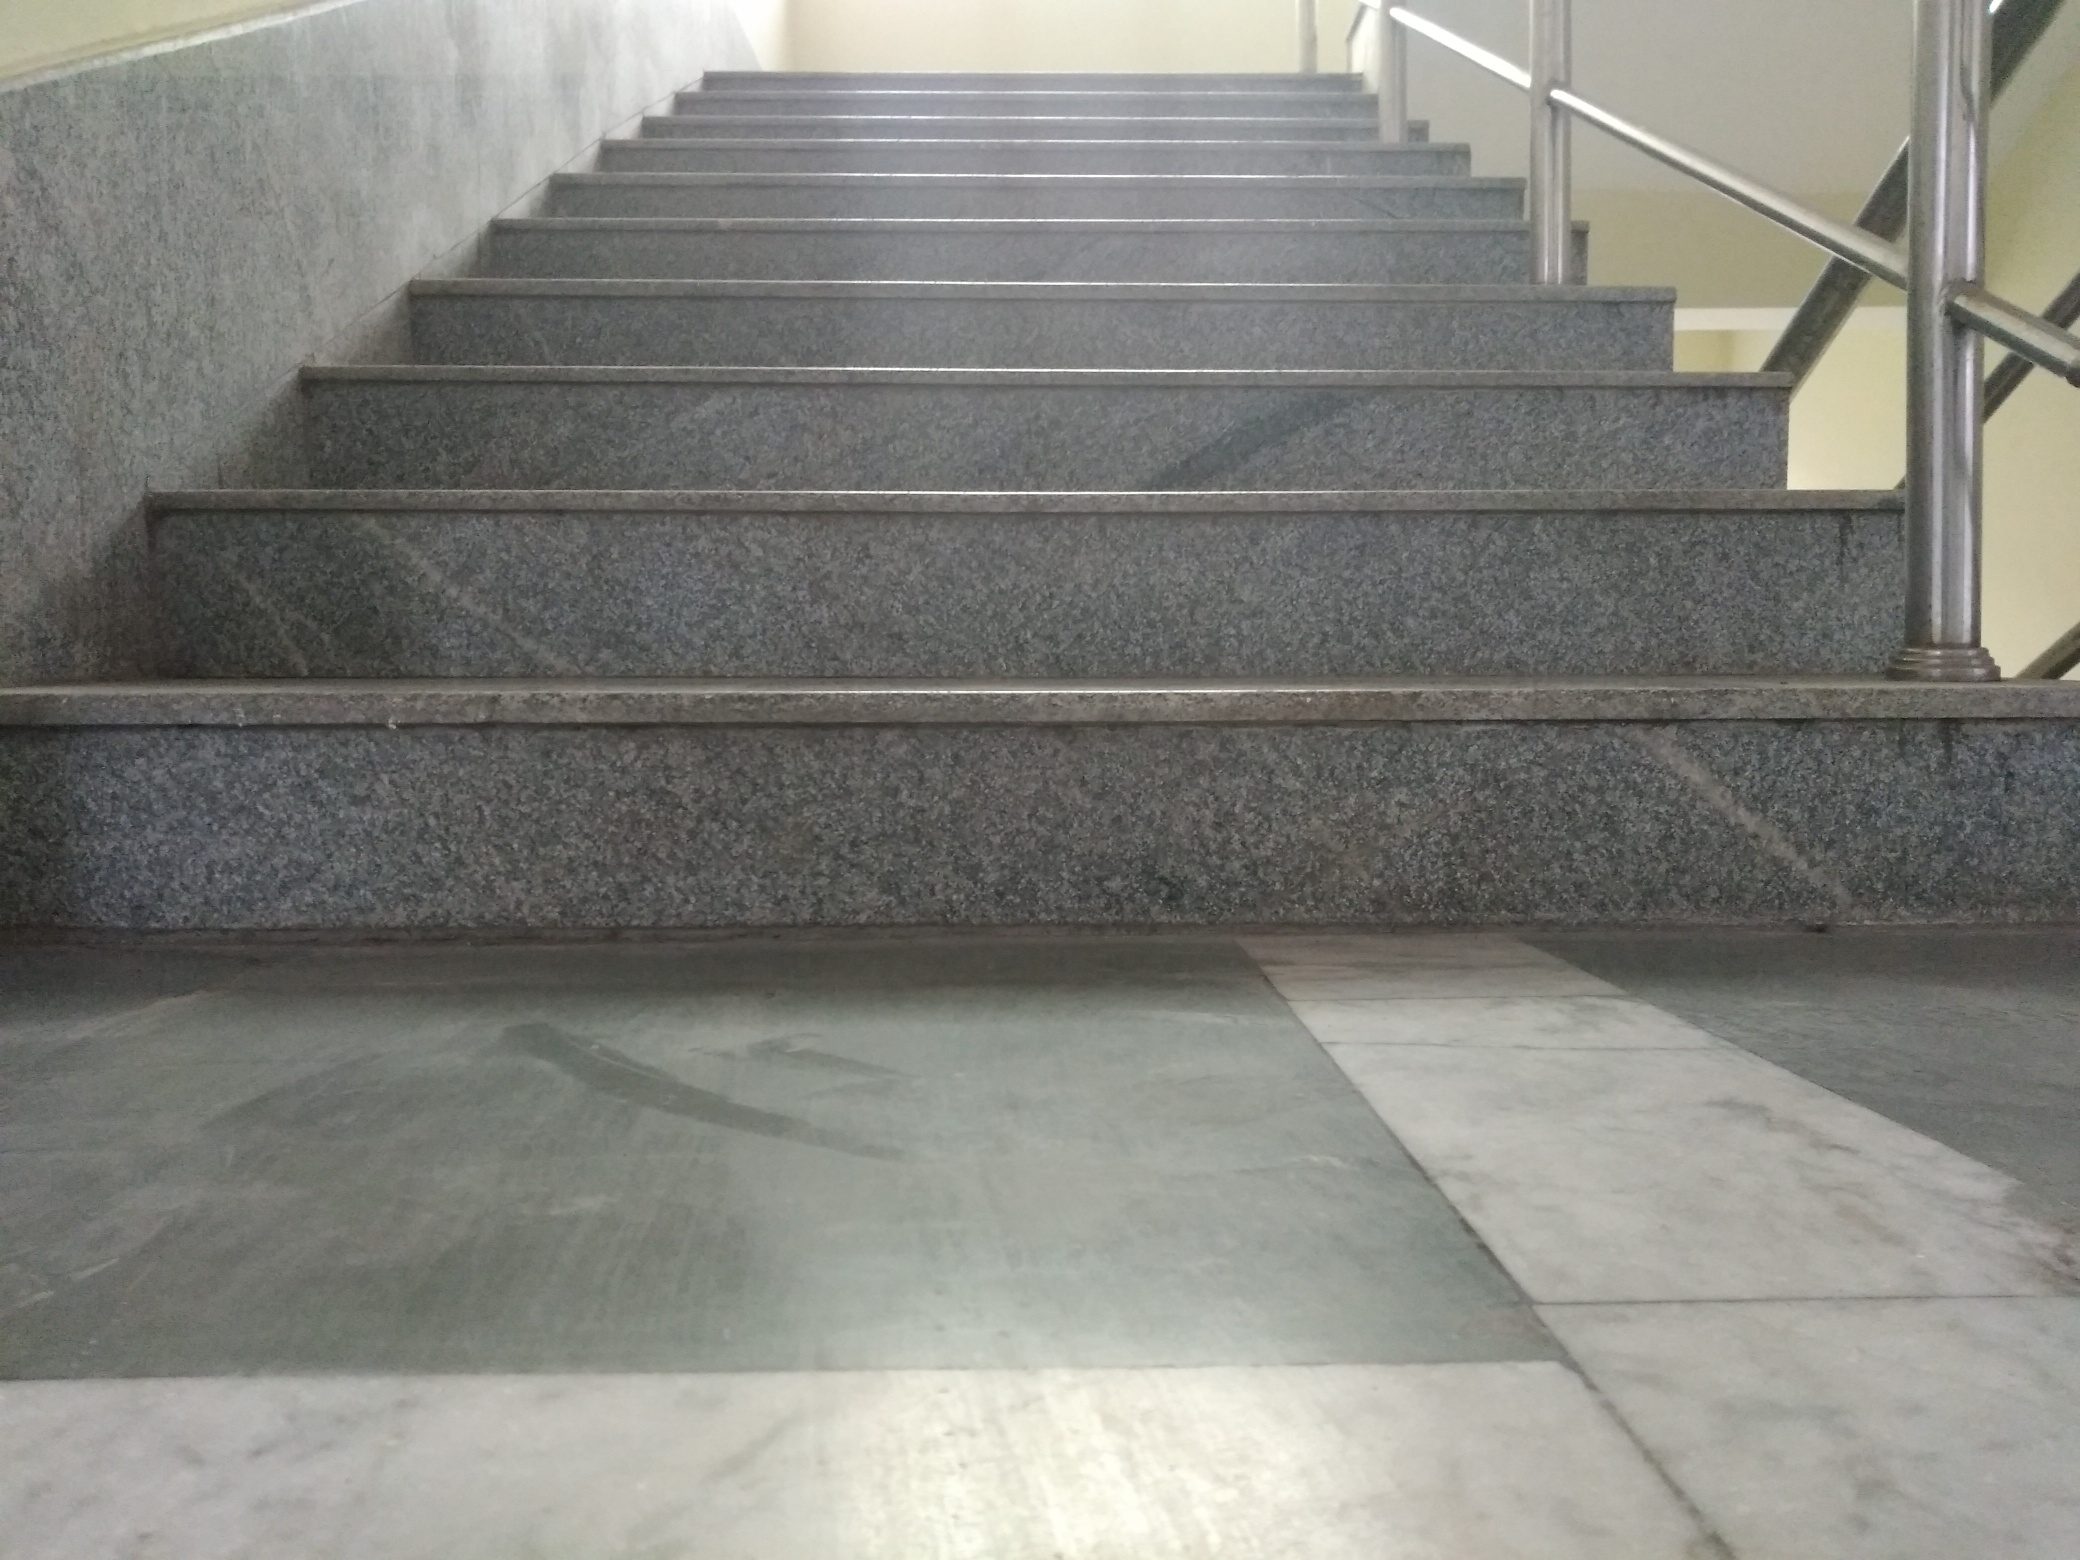stairs_up: (57, 28, 1965, 942)
